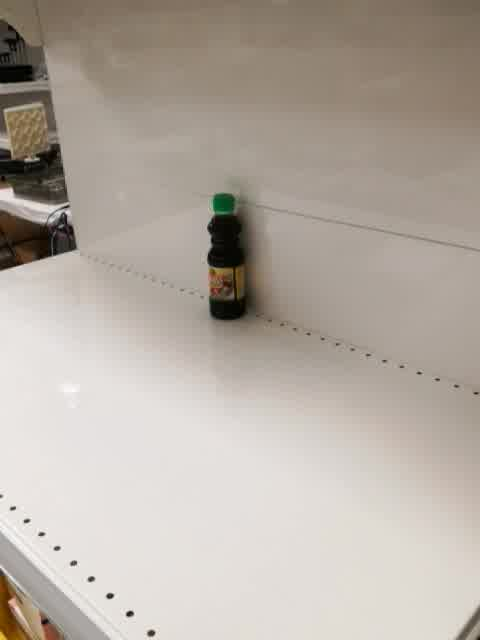cookingoil: (206, 191, 249, 323)
